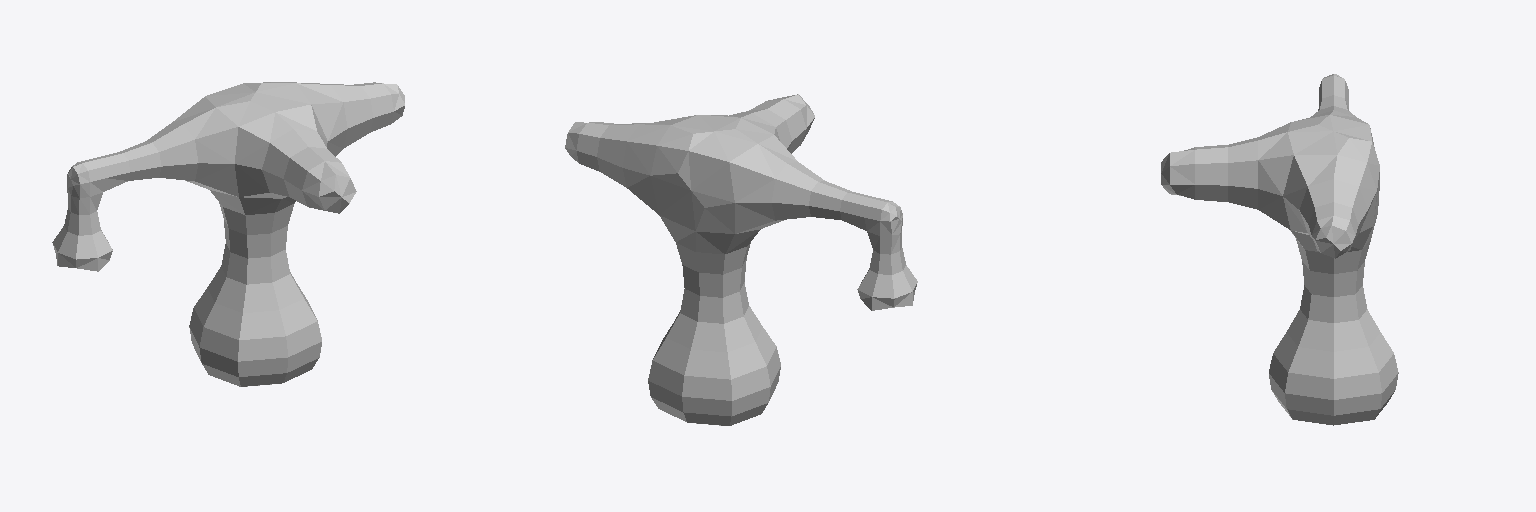
File: blobby.obj
The picture shows the model from 3 angles: view 1: azimuth 30°, elevation 25°; view 2: azimuth 150°, elevation 25°; view 3: azimuth 270°, elevation 25°; orthographic projection.
Visible parts, largest first — view 1: Cube_Cube.001; view 2: Cube_Cube.001; view 3: Cube_Cube.001.
Boxes of the visible parts, box(x1,y1,x2,y2) form: Cube_Cube.001: box(52, 82, 404, 386); Cube_Cube.001: box(565, 94, 917, 425); Cube_Cube.001: box(1161, 74, 1398, 425).
Size of the model in its own units: 8.51 by 6.52 by 5.1.